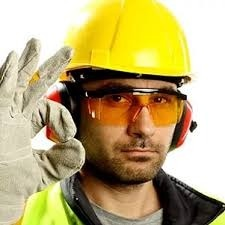helmet: (59, 1, 192, 81)
person with partial safety: (24, 1, 218, 223)
